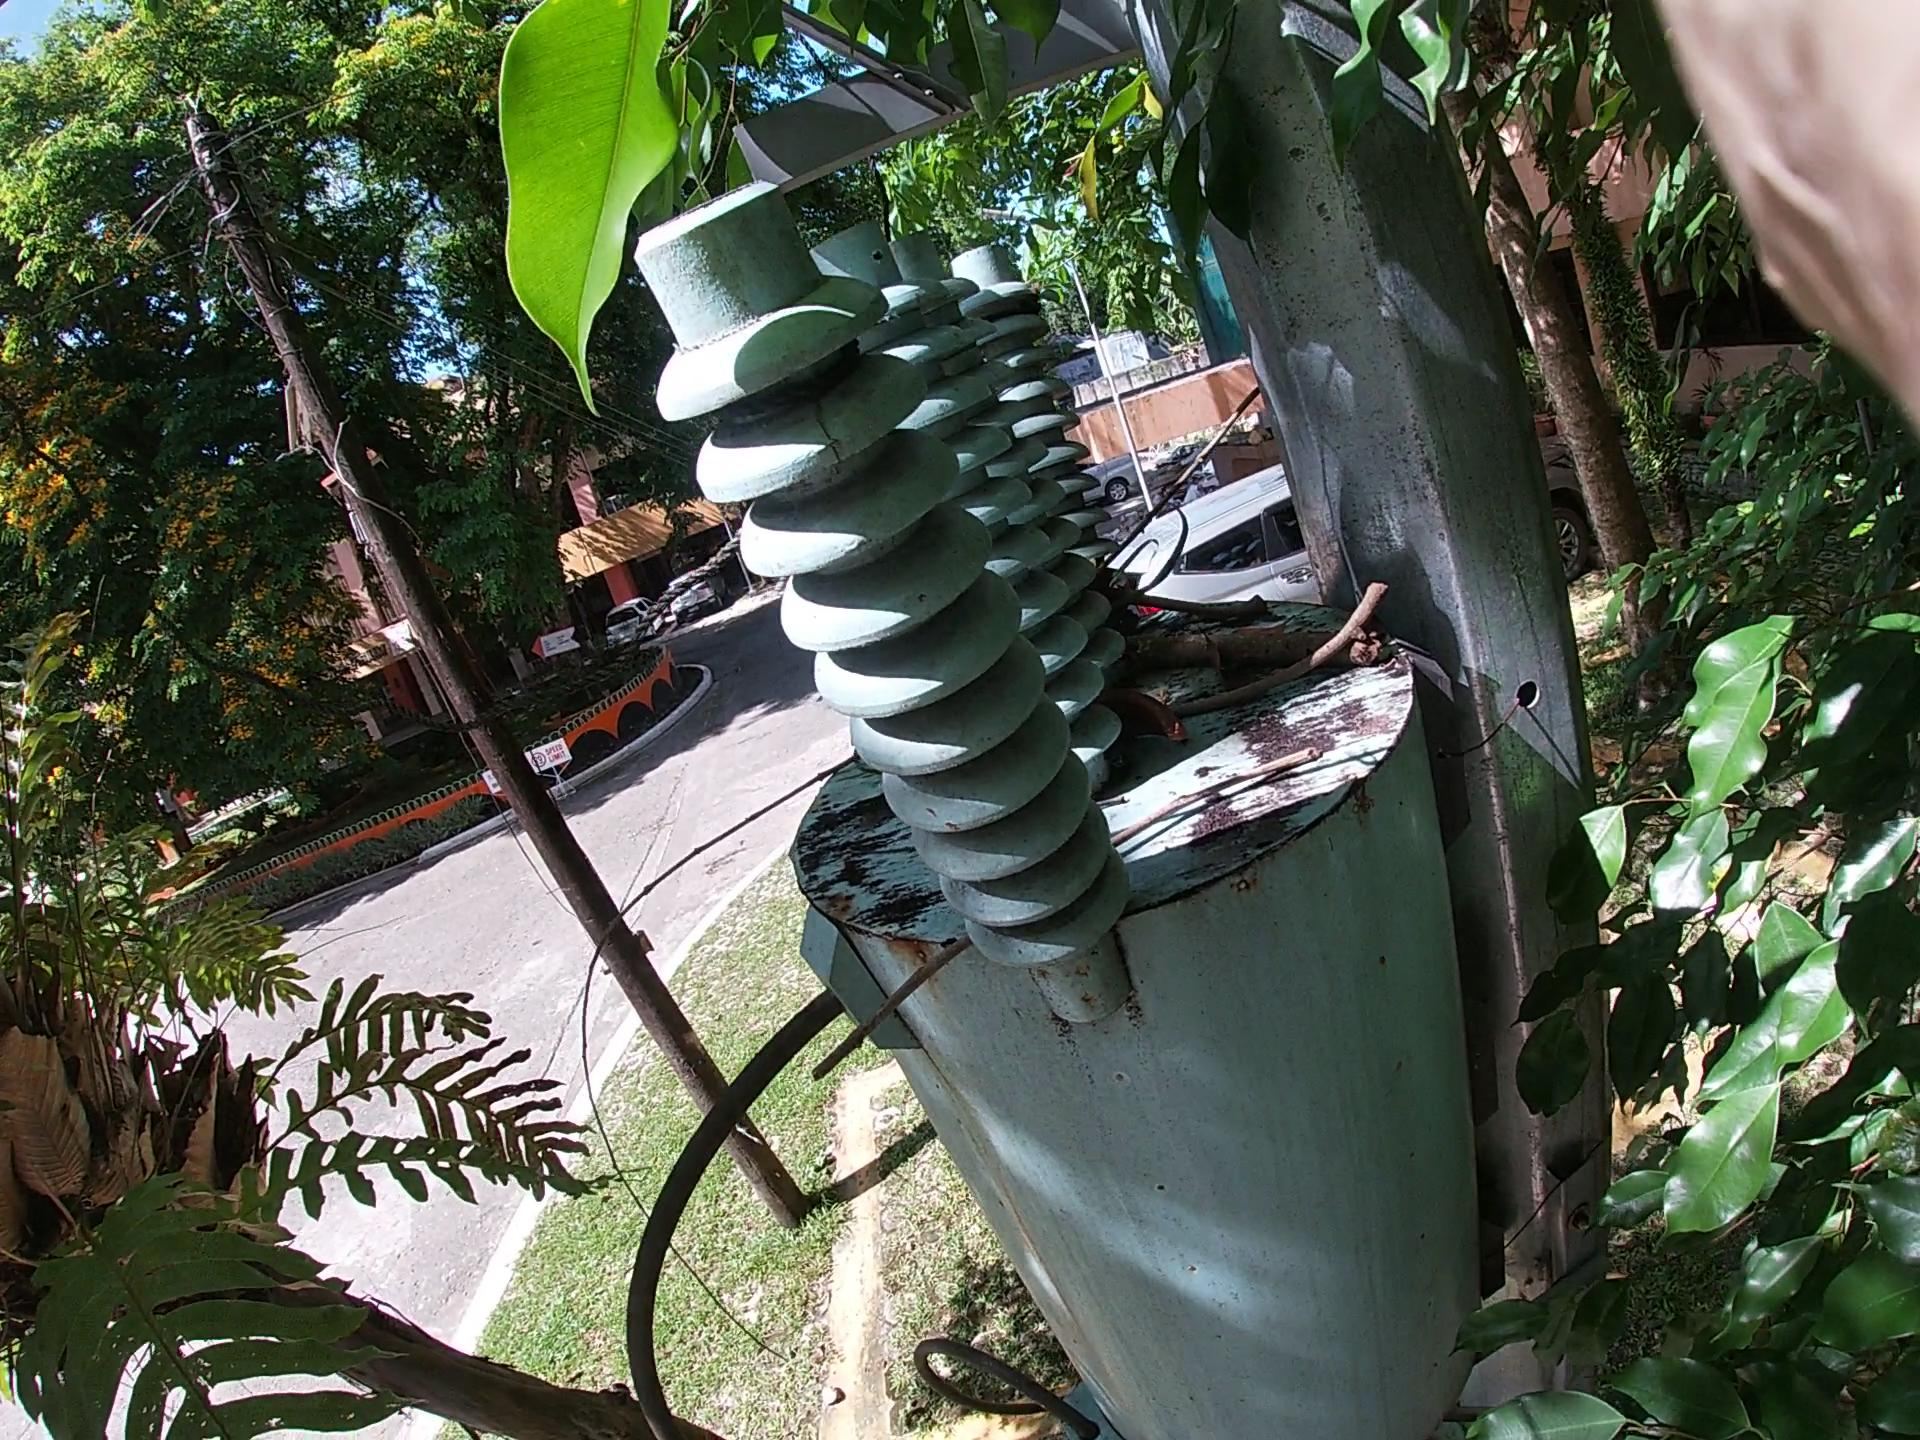mahogany fruit: (1030, 570, 1169, 675)
tree branch: (519, 265, 1303, 1147), (812, 712, 1333, 1151), (1160, 414, 1398, 750), (1099, 616, 1531, 669), (1034, 564, 1380, 622)
